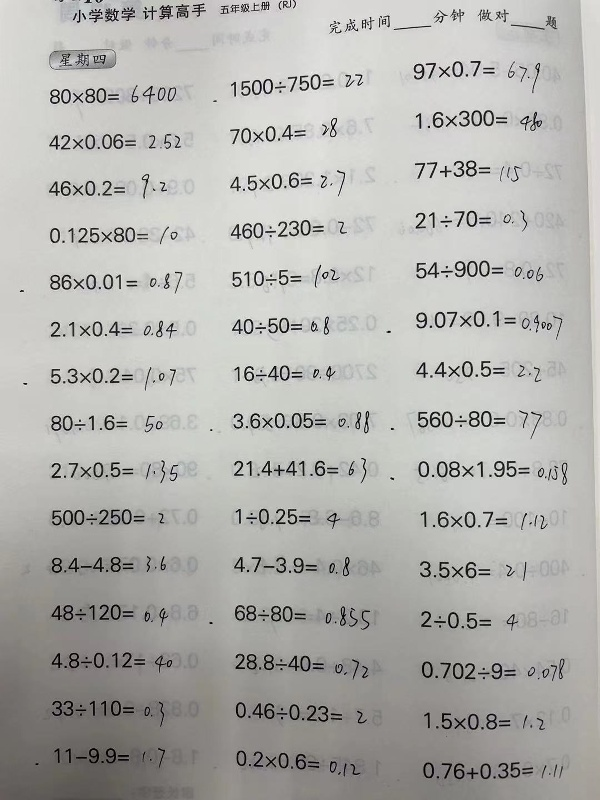equation: (420, 750, 568, 790), (232, 743, 368, 782), (234, 694, 370, 733), (235, 644, 371, 683), (412, 405, 544, 444), (417, 653, 568, 687), (410, 57, 544, 95), (410, 305, 565, 337), (233, 597, 372, 632), (419, 703, 553, 739), (412, 455, 570, 485), (229, 453, 370, 486), (229, 406, 373, 437), (411, 600, 524, 637), (46, 363, 179, 394), (45, 267, 186, 296), (226, 166, 349, 199), (47, 456, 181, 486), (229, 114, 341, 149), (410, 104, 545, 133), (410, 255, 546, 283), (45, 601, 174, 630), (43, 548, 172, 577), (48, 646, 177, 675), (45, 695, 174, 724), (47, 742, 176, 771), (44, 171, 172, 200), (227, 551, 358, 579), (411, 205, 531, 235), (43, 503, 171, 531), (414, 556, 533, 586), (411, 355, 543, 382), (45, 81, 180, 107), (45, 410, 165, 439), (228, 261, 343, 291), (45, 222, 181, 247), (415, 506, 550, 531), (45, 315, 179, 340), (227, 70, 366, 94), (45, 128, 183, 152), (410, 154, 524, 183), (230, 504, 347, 532), (225, 215, 348, 240), (228, 312, 333, 338), (230, 361, 339, 384)
